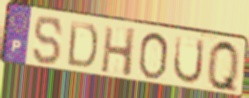D: (65, 19, 100, 71)
H: (99, 24, 138, 79)
O: (137, 32, 170, 81)
Q: (206, 38, 240, 97)
S: (33, 15, 65, 67)
U: (171, 34, 207, 86)
